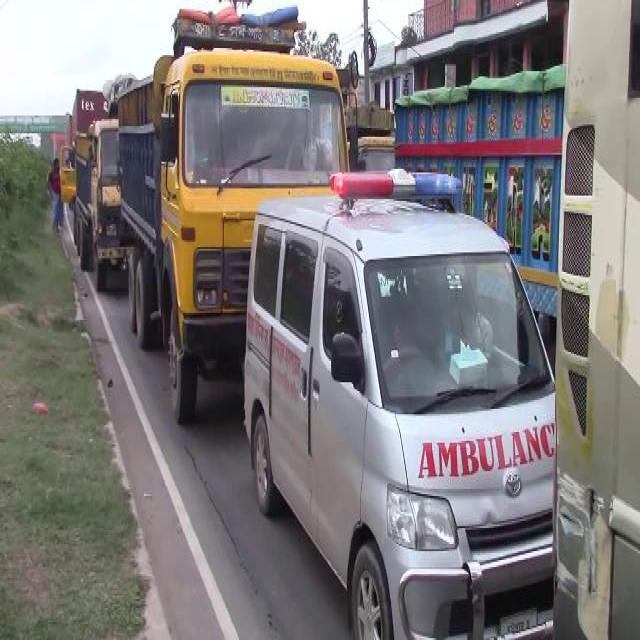18: (116, 4, 238, 426), (74, 119, 116, 293)
Ambulance: (243, 169, 552, 638)
